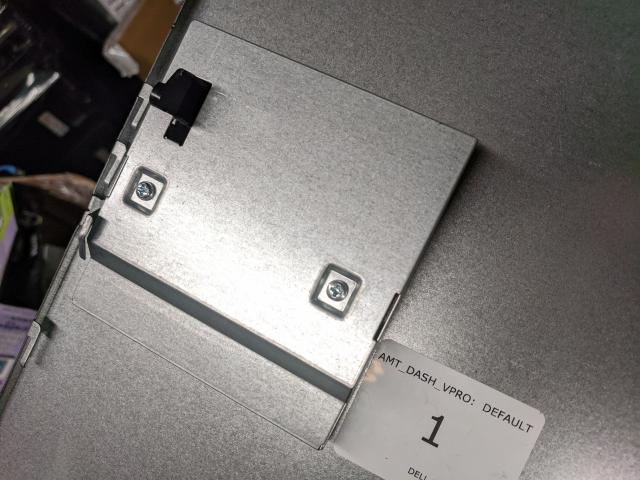CRS: (328, 280, 348, 302), (135, 182, 156, 202)
